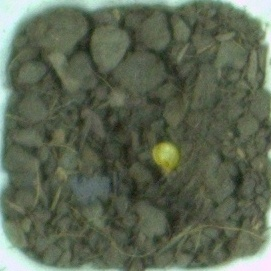chilli seed: (151, 140, 180, 170)
